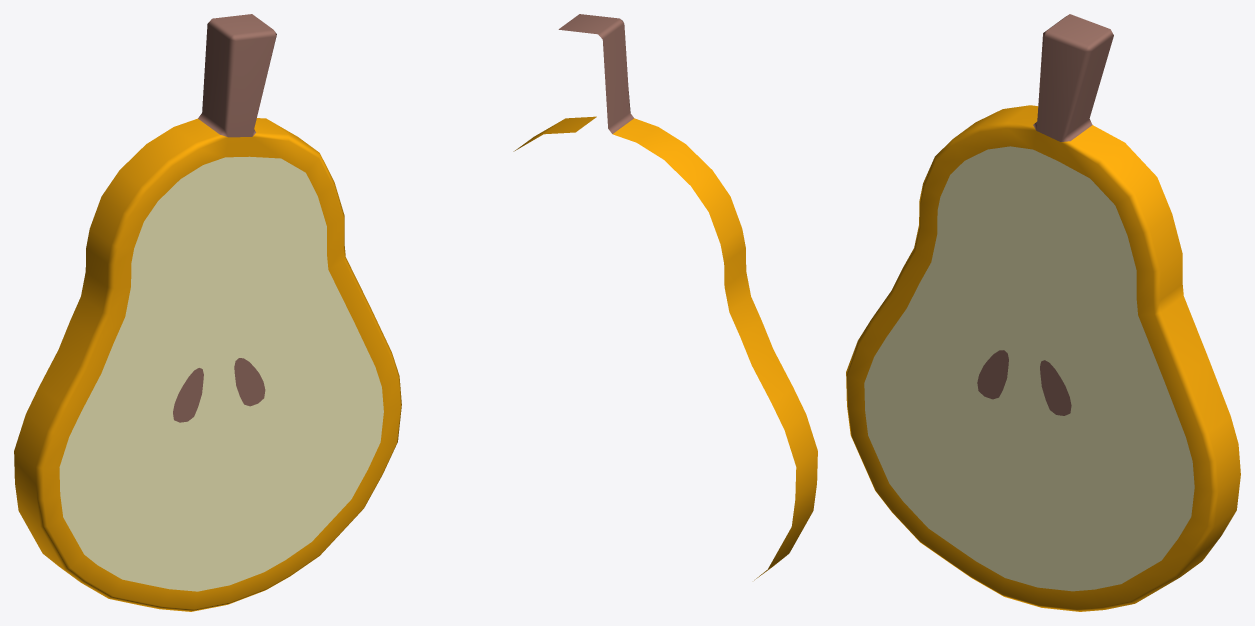
The model's file is Store_19_Pear_Sign_1.glb.
3 renders of one model, left to right at view 1: azimuth 30°, elevation 25°; view 2: azimuth 150°, elevation 25°; view 3: azimuth 330°, elevation 25°, orthographic.
Visible parts, largest first — view 1: Store_19_Pear_Sign_1; view 2: Store_19_Pear_Sign_1; view 3: Store_19_Pear_Sign_1.
Part boxes in pixels (box(x1,y1,x2,y2)): Store_19_Pear_Sign_1: box(14, 14, 401, 611); Store_19_Pear_Sign_1: box(513, 14, 817, 580); Store_19_Pear_Sign_1: box(846, 14, 1240, 611).
Size of the model in its own units: 0.369 by 0.5478 by 0.045.
Materials: 1 (1 with a texture image).
